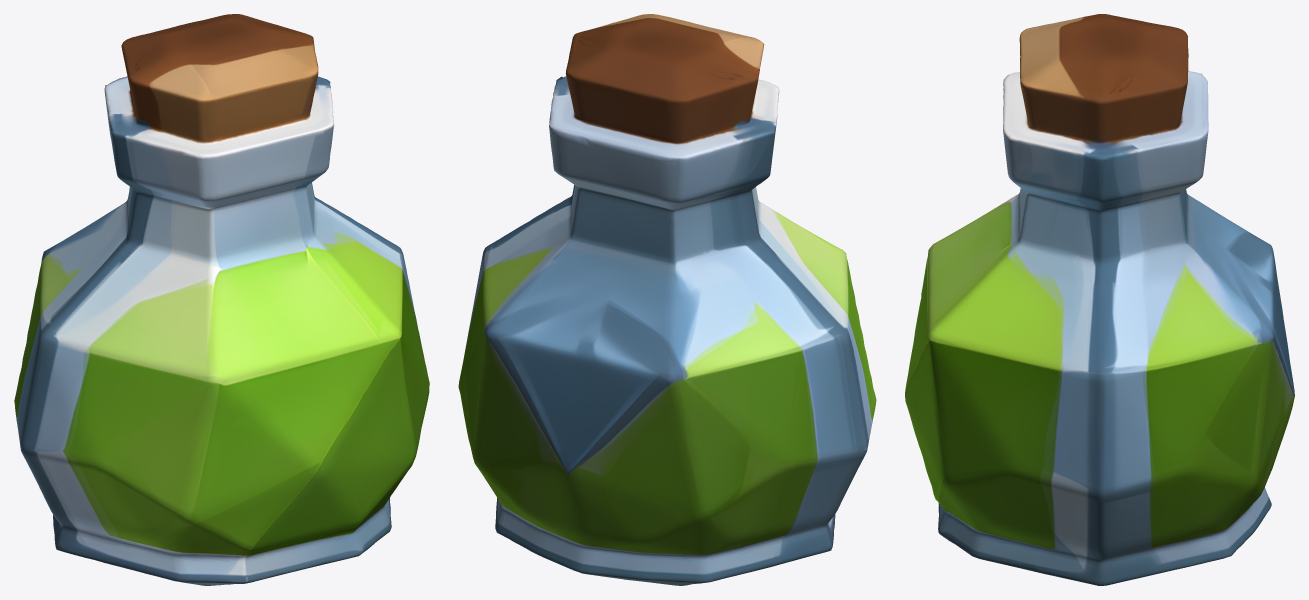
File: 019db383-dbd2-79e1-aa89-2b47477ff08c.glb
3 views of the same model, side by side, from view 1: azimuth 30°, elevation 25°; view 2: azimuth 150°, elevation 25°; view 3: azimuth 270°, elevation 25° (orthographic).
Parts seen in each view (by area): view 1: model; view 2: model; view 3: model.
Part boxes in pixels (box(x1,y1,x2,y2)): model: box(14, 14, 429, 585); model: box(458, 14, 876, 585); model: box(905, 14, 1294, 585).
Bounding box in the file's own units: 1.41 × 1.73 × 1.2.
Materials: 1 (1 with a texture image).
